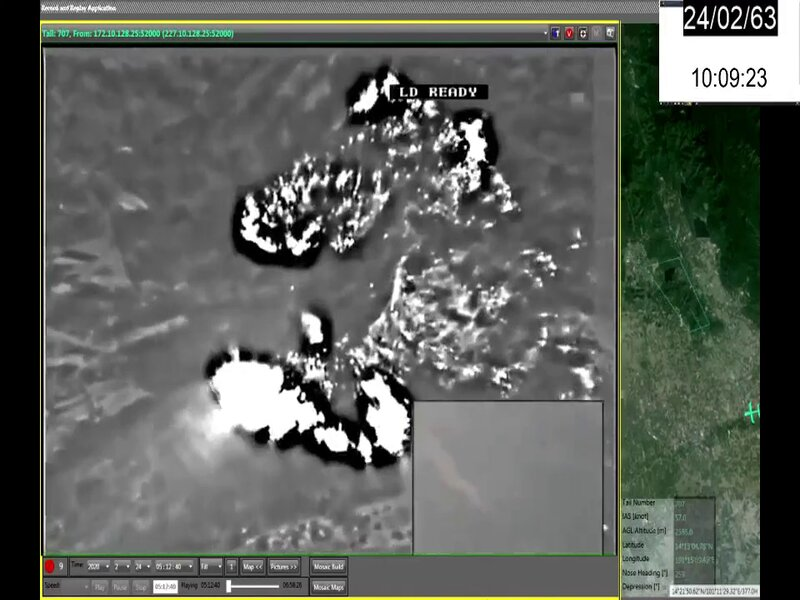Fire: (201, 69, 411, 474)
